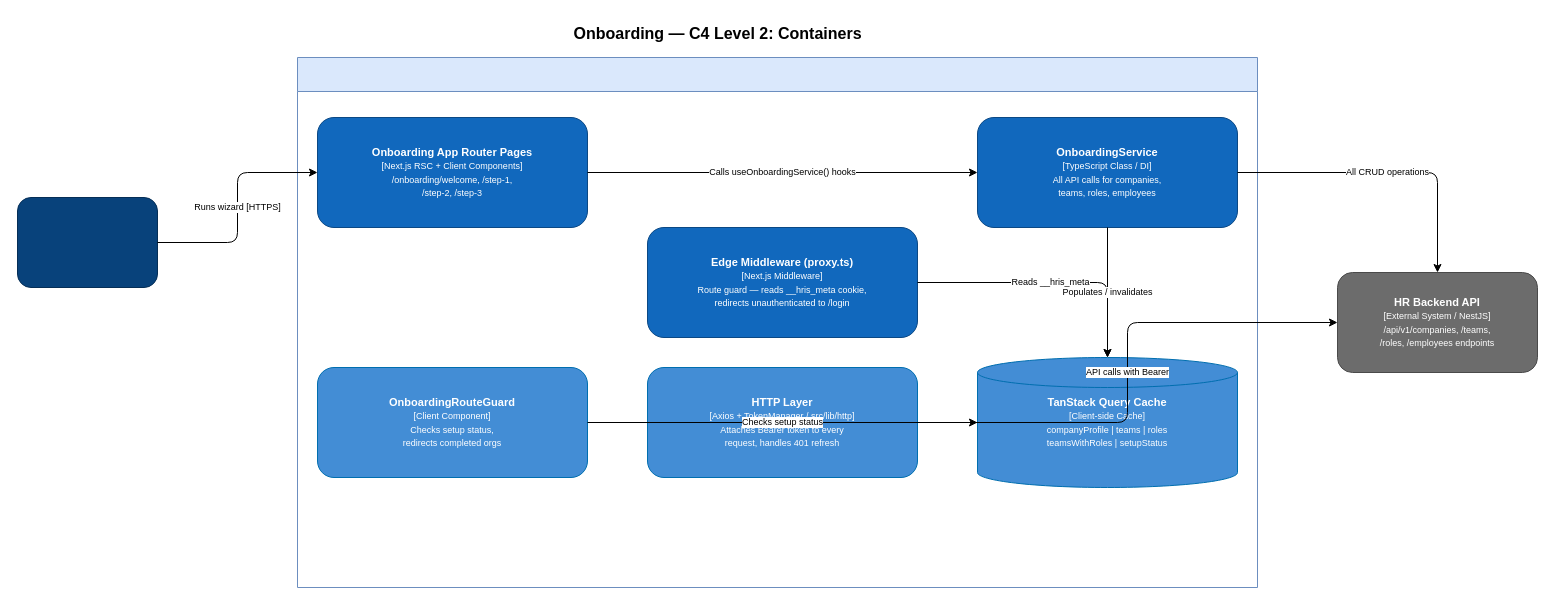
Some shapes in this 1555 by 605 pixel diagram are drawn without their labels. The shapes that lost their labels are listed below. From the top down, each one's box as (x1, y1, x2, y2) in pixels, then its label:
(16, 196, 158, 288): Company Owner [Person] Runs onboarding wizard
(296, 56, 1258, 588): HRIS Web App (Next.js 16)
